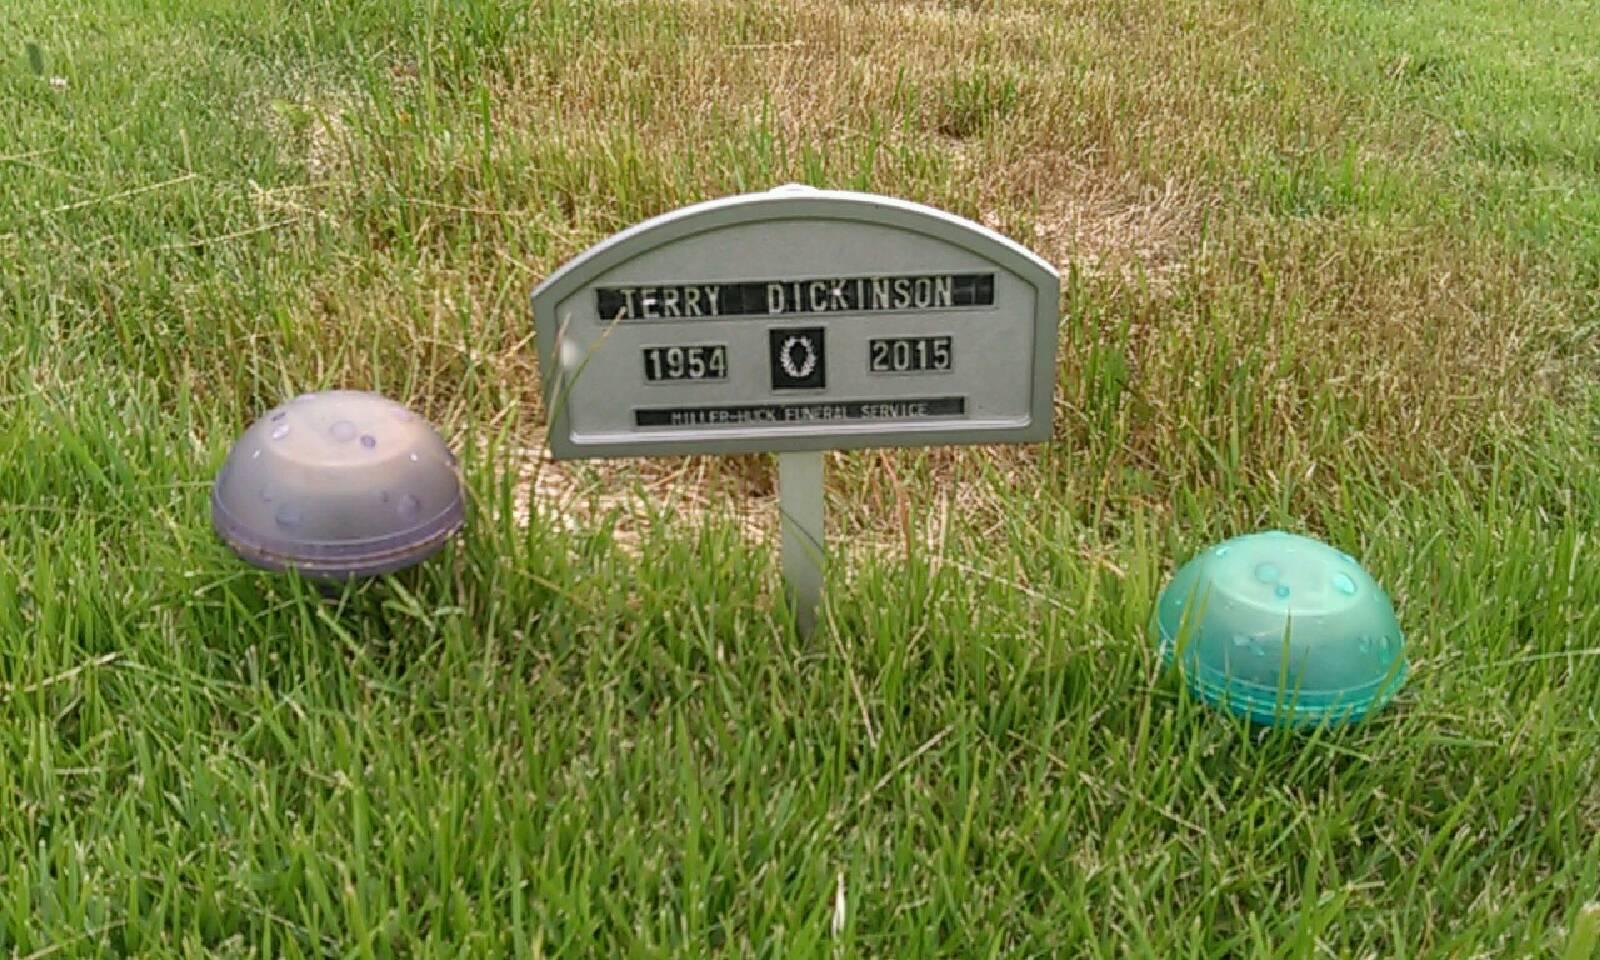plaque: (527, 179, 1077, 466)
